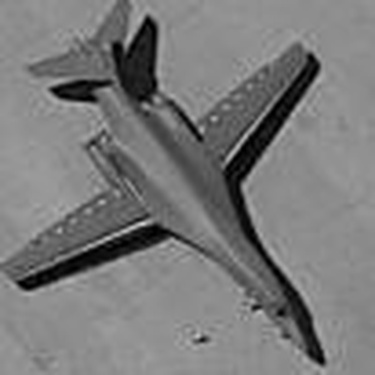airplane: (1, 1, 344, 367)
